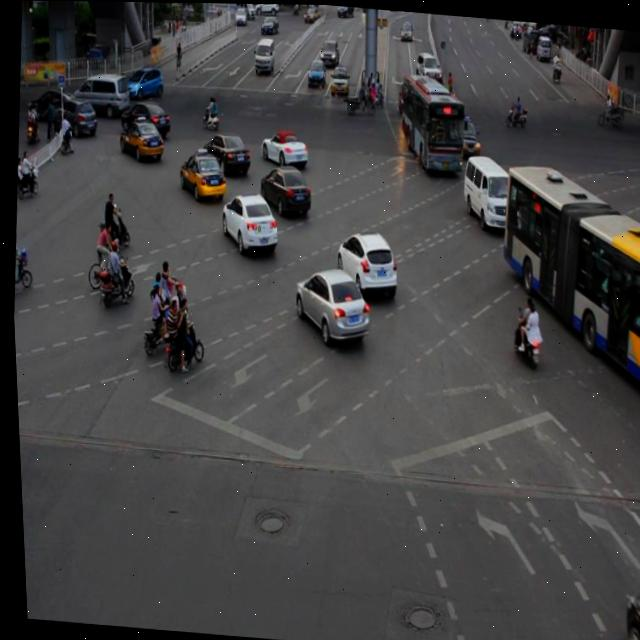car: (288, 263, 370, 345), (331, 227, 397, 296), (216, 188, 278, 255), (255, 163, 311, 218), (175, 148, 226, 203), (199, 129, 251, 176), (118, 96, 172, 140), (116, 115, 165, 163), (257, 126, 307, 169), (613, 583, 640, 640), (447, 111, 479, 155)
truck: (458, 151, 512, 228)
van: (487, 162, 640, 407), (394, 72, 465, 175)
